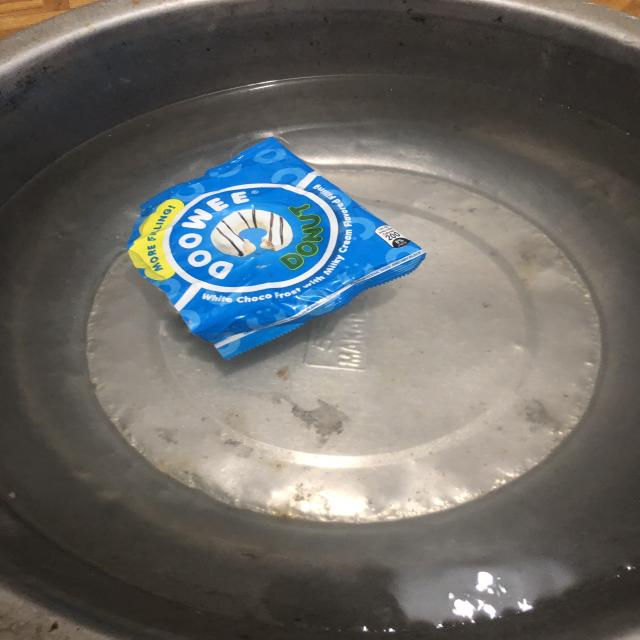Plastic Wrapper: (127, 138, 425, 358)
